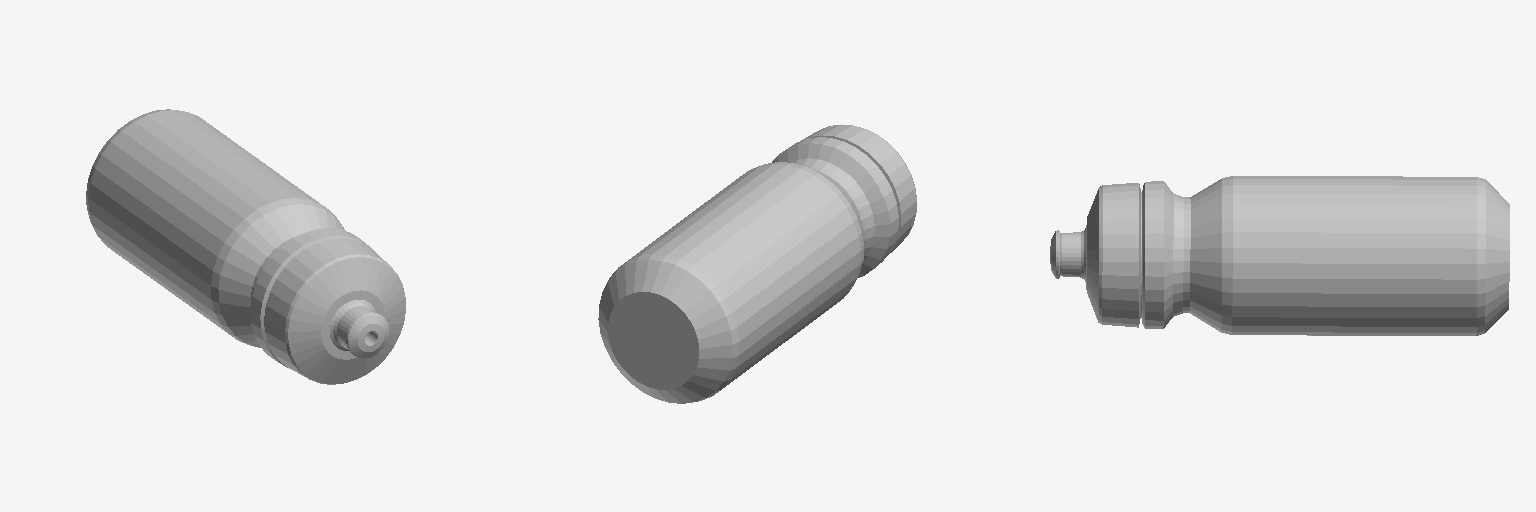
The model's file is bottle.obj.
The picture shows the model from 3 angles: view 1: azimuth 30°, elevation 25°; view 2: azimuth 150°, elevation 25°; view 3: azimuth 270°, elevation 25°; orthographic projection.
Parts seen in each view (by area): view 1: Borraccia.001_Cylinder.016; view 2: Borraccia.001_Cylinder.016; view 3: Borraccia.001_Cylinder.016.
Boxes of the visible parts, x1,y1,x2,y2 form: Borraccia.001_Cylinder.016: [86, 109, 405, 384]; Borraccia.001_Cylinder.016: [598, 124, 916, 403]; Borraccia.001_Cylinder.016: [1050, 176, 1509, 335].
Bounding box in the file's own units: 1.21 × 1.22 × 3.47.